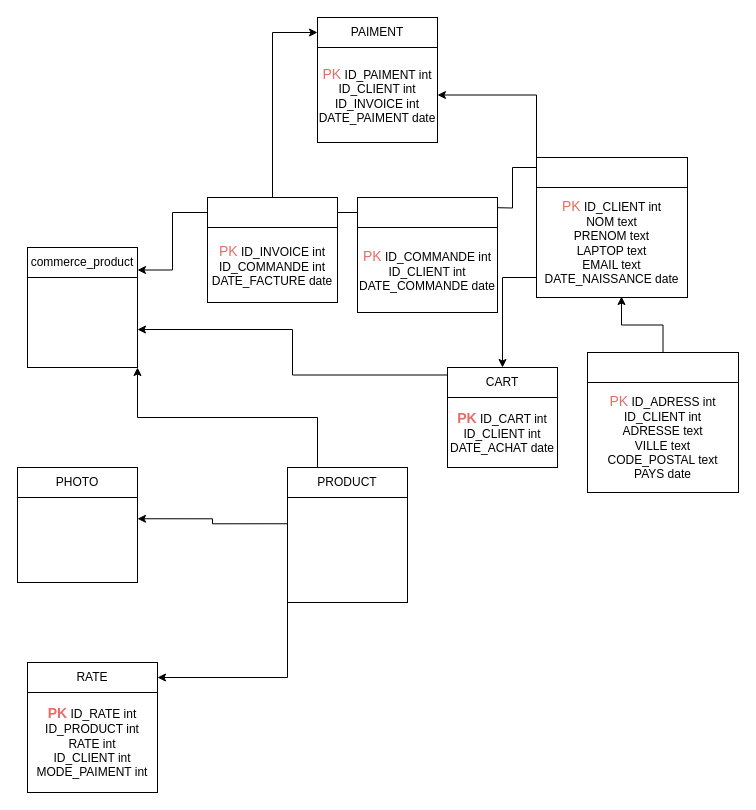
This 756x810 diagram has some shape labels left out. Here are the shapes that lost their labels. From the top down, the box of each, then its label:
(536, 156, 688, 188): CLIENT
(206, 196, 338, 228): INVOICE
(356, 196, 498, 228): COMMANDE
(26, 276, 138, 368): ID_CART int ID_PRODUCT int ID_INVOICE int ID_COMMANDE int QUANTITY int
(586, 352, 738, 382): ADRESS
(16, 496, 138, 582): PK ID_PHOTO int ID_CLIENT int ID_PRODUCT int URL text
(286, 496, 408, 602): PK ID_PRODUCT int NOM text DESCRIPTION text PRIX real STOCK int
